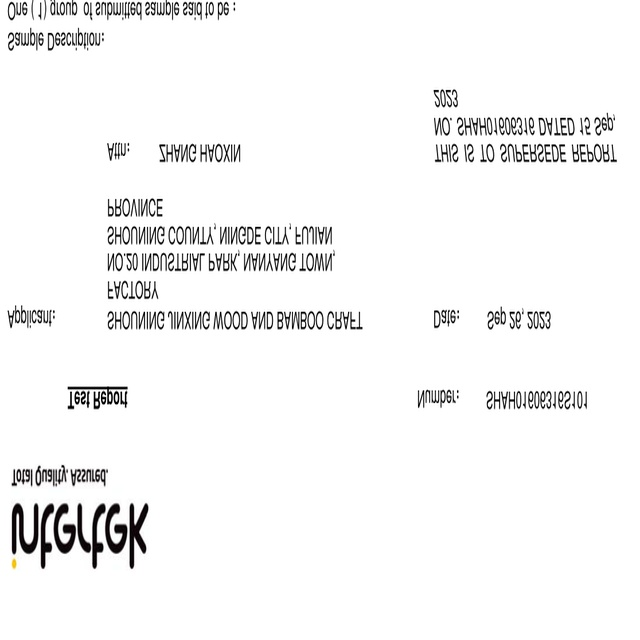intertek: (8, 500, 152, 572)
